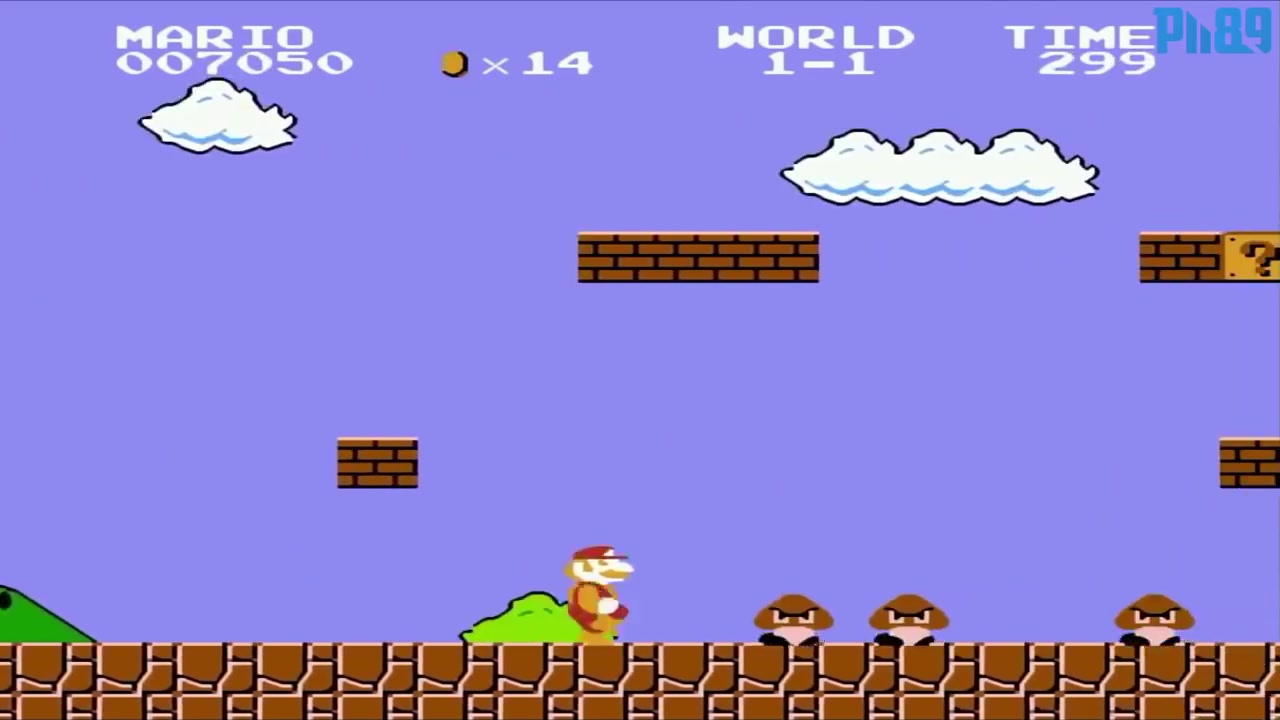mario: (551, 541, 639, 641)
